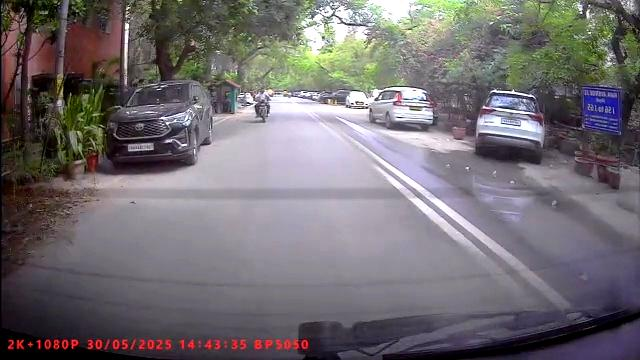motorcycle_without_helmet: (253, 87, 272, 124)
